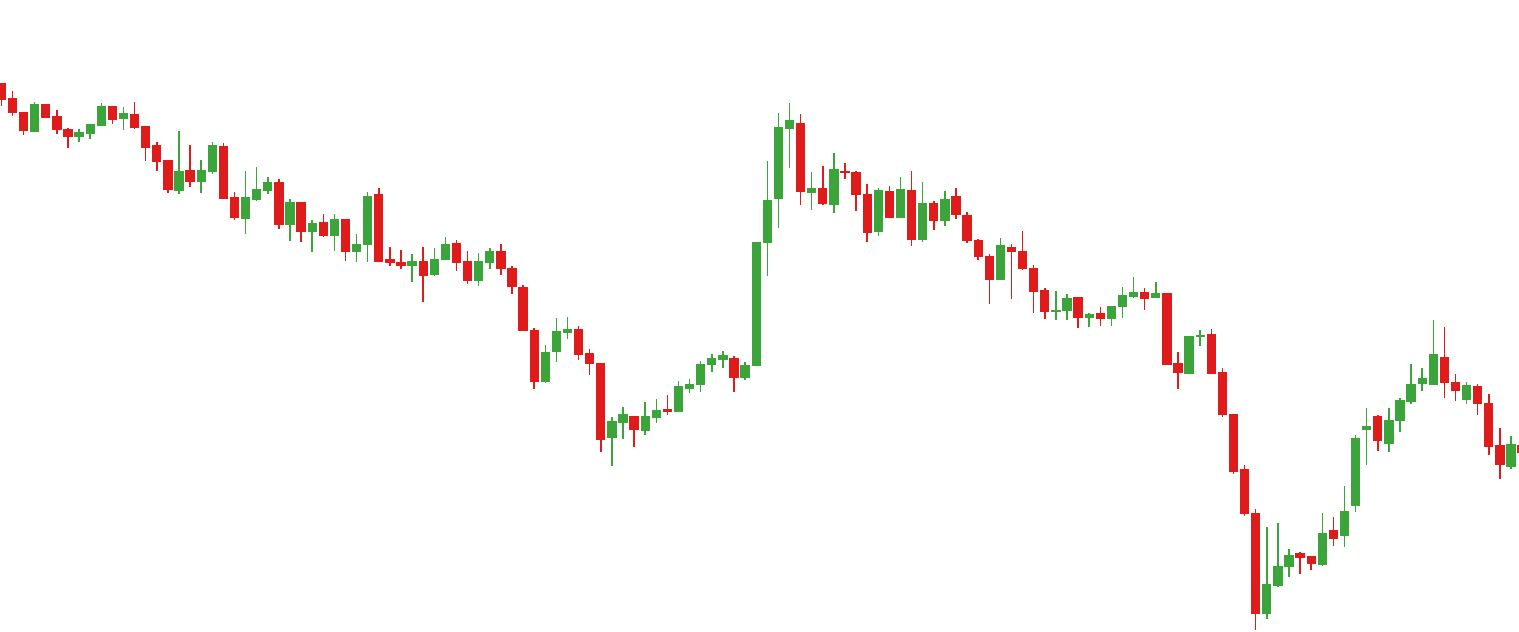sell: (1061, 274, 1150, 319)
